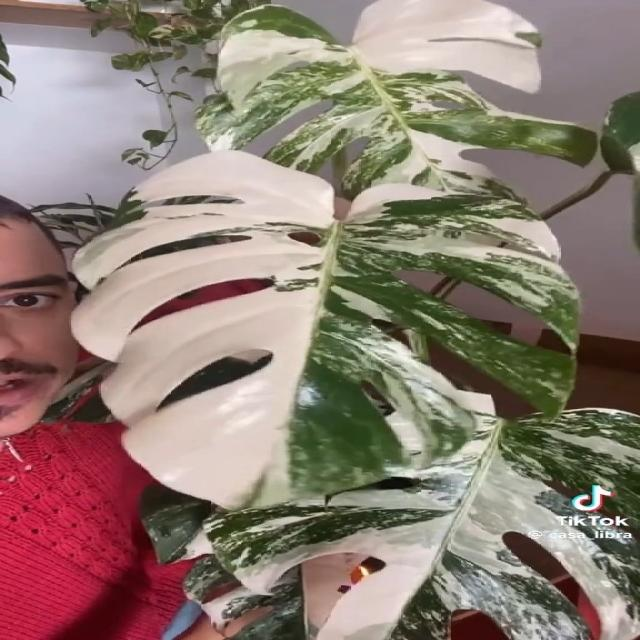lisc_variegata: (69, 152, 584, 512), (136, 408, 640, 640), (195, 0, 595, 206), (185, 554, 359, 640), (601, 91, 640, 255)
roslina_variegata: (70, 0, 640, 640)
